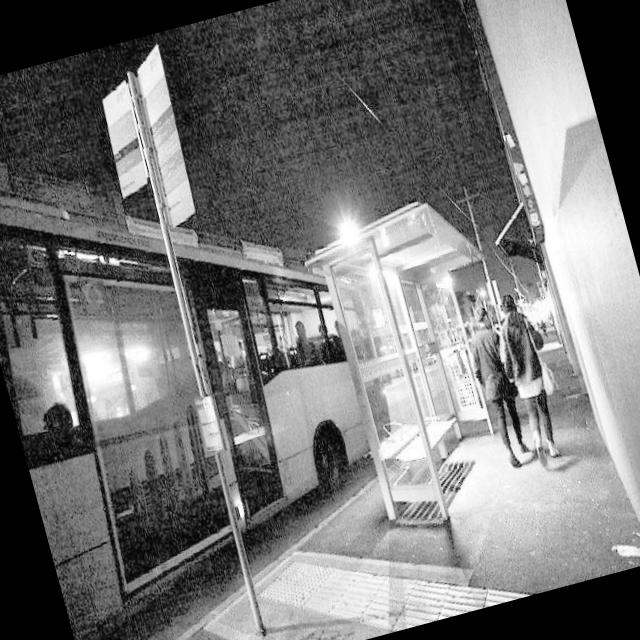Bus: (0, 169, 449, 640)
